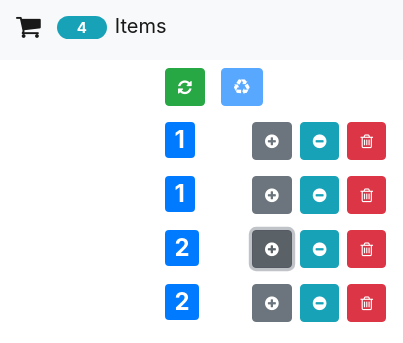
it: Test Counter App › Decrement Counter value
Step 1. Click the 3rd button with test id "decrementButton" → (320, 249), box [300,230,340,268]
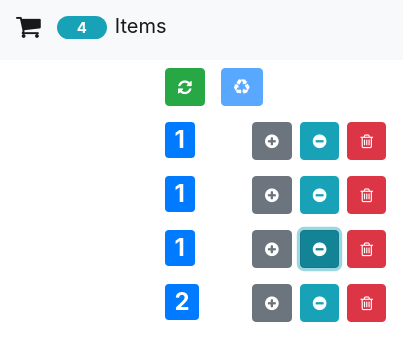
Expected: the 3rd text "1" is shown, [165,230,194,266]
Step 2. Click the 4th button with test id "decrementButton" → (320, 303), box [300,284,340,322]
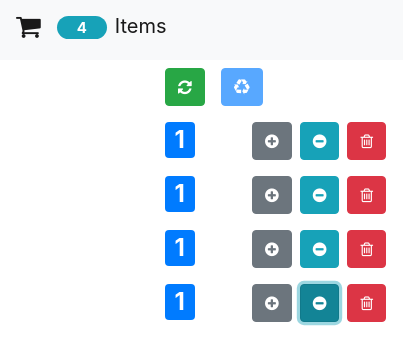
Expected: the 4th text "1" is shown, [165,284,194,320]
